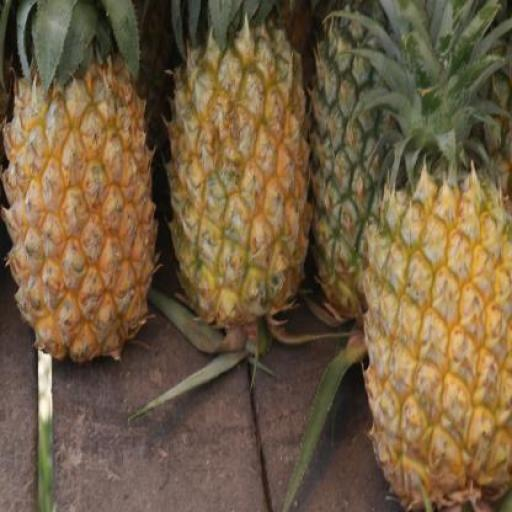------------------------------: (170, 20, 314, 327)
Pineapple - v8 v1: (362, 174, 511, 510), (0, 59, 150, 359)
